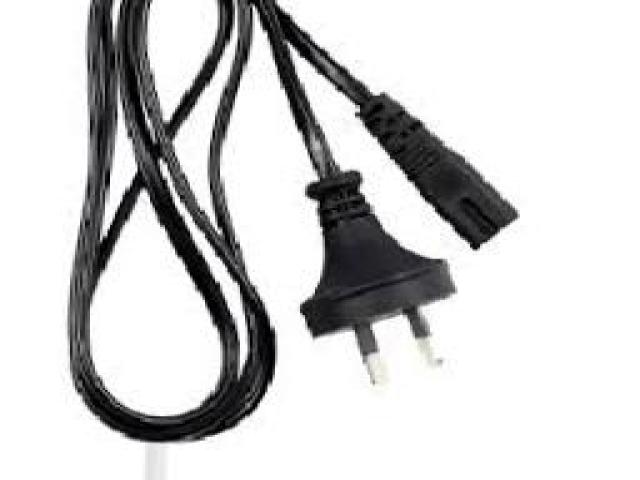wire: (70, 0, 518, 441)
